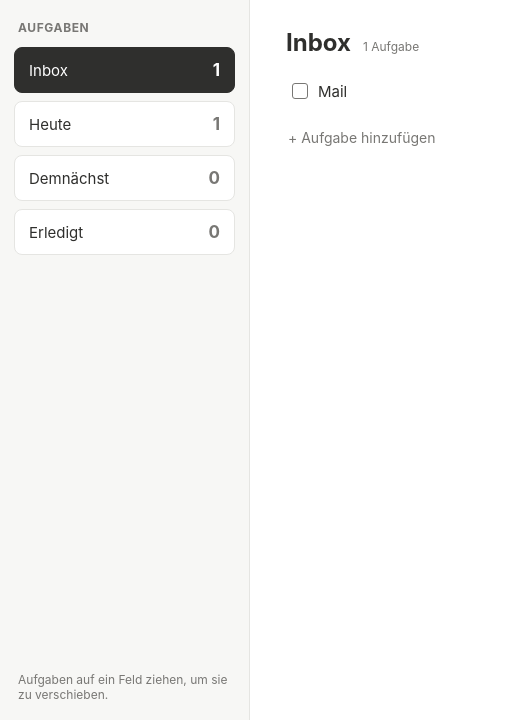
Test case: AufgabenView (Kategorien-Spalte) › zeigt per Klick auf ein Feld die Aufgaben dieser Kategorie
The image size is (516, 720).
expect the text "Mail" is shown: met, box [318,82,347,100]
expect the text "Plan" is not shown: met
Click the button "Heute 1" at (124, 124), box [14,101,235,147]
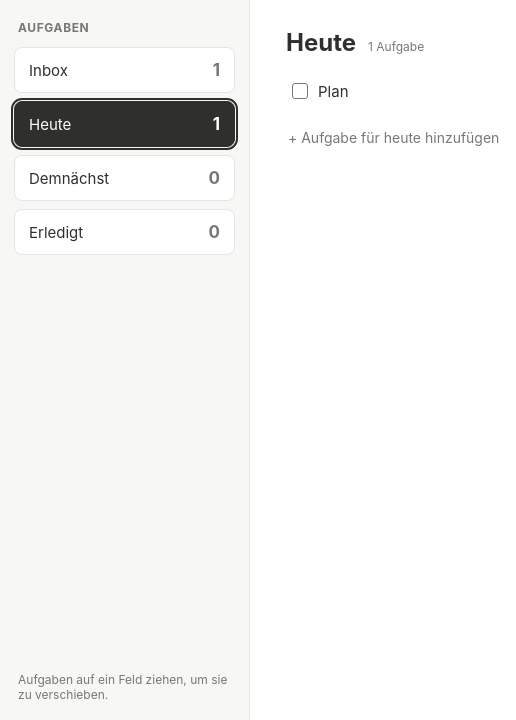
expect the text "Plan" is shown: met, box [318,82,348,100]
expect the text "Mail" is gone: met
